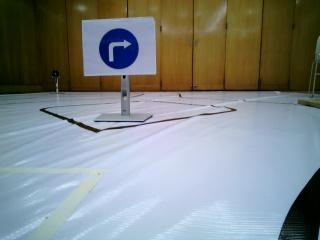right: (84, 22, 154, 76)
